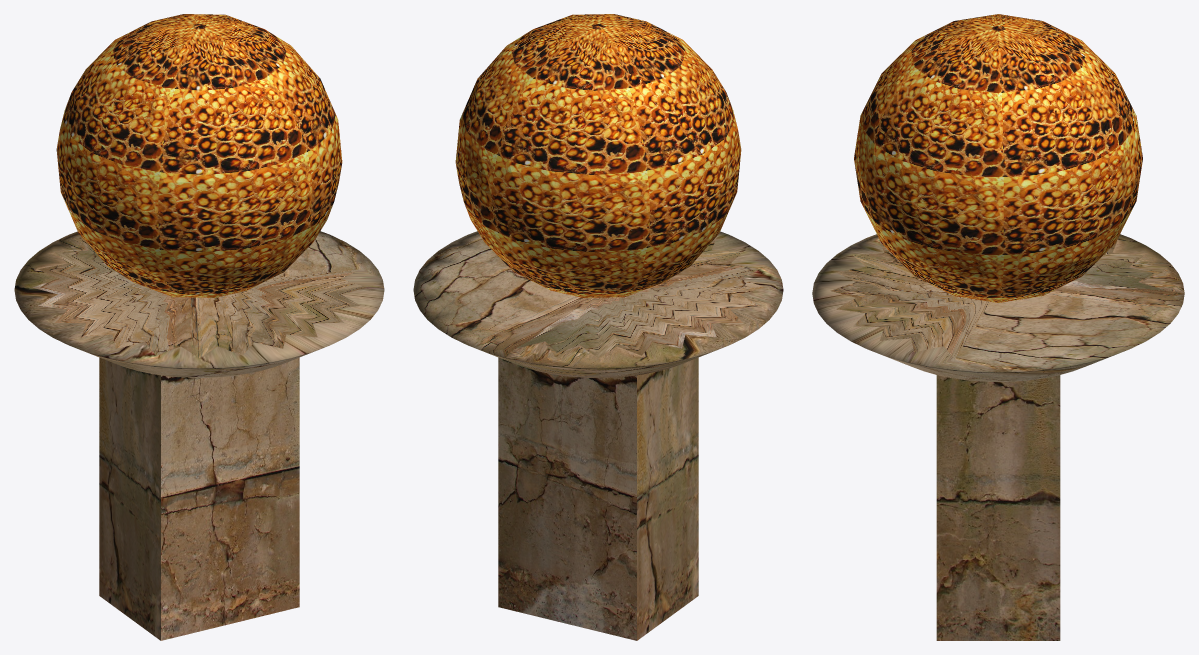
Rendered from BeeHiveStatue.FBX.
3 renders of one model, left to right at view 1: azimuth 30°, elevation 25°; view 2: azimuth 150°, elevation 25°; view 3: azimuth 270°, elevation 25°, orthographic.
Visible parts, largest first — view 1: GeoSphere001, Box001, Cone001; view 2: GeoSphere001, Box001, Cone001; view 3: GeoSphere001, Cone001, Box001.
Boxes of the visible parts, box(x1,y1,x2,y2) form: GeoSphere001: box(56, 14, 342, 297); Box001: box(99, 357, 299, 640); Cone001: box(14, 231, 384, 377); GeoSphere001: box(455, 14, 741, 297); Box001: box(498, 357, 698, 640); Cone001: box(413, 231, 783, 377); GeoSphere001: box(854, 14, 1142, 302); Cone001: box(812, 234, 1184, 381); Box001: box(936, 375, 1060, 640).
Bounding box in the file's own units: 37.26 × 63.97 × 37.26.
2 materials, 2 textured.
